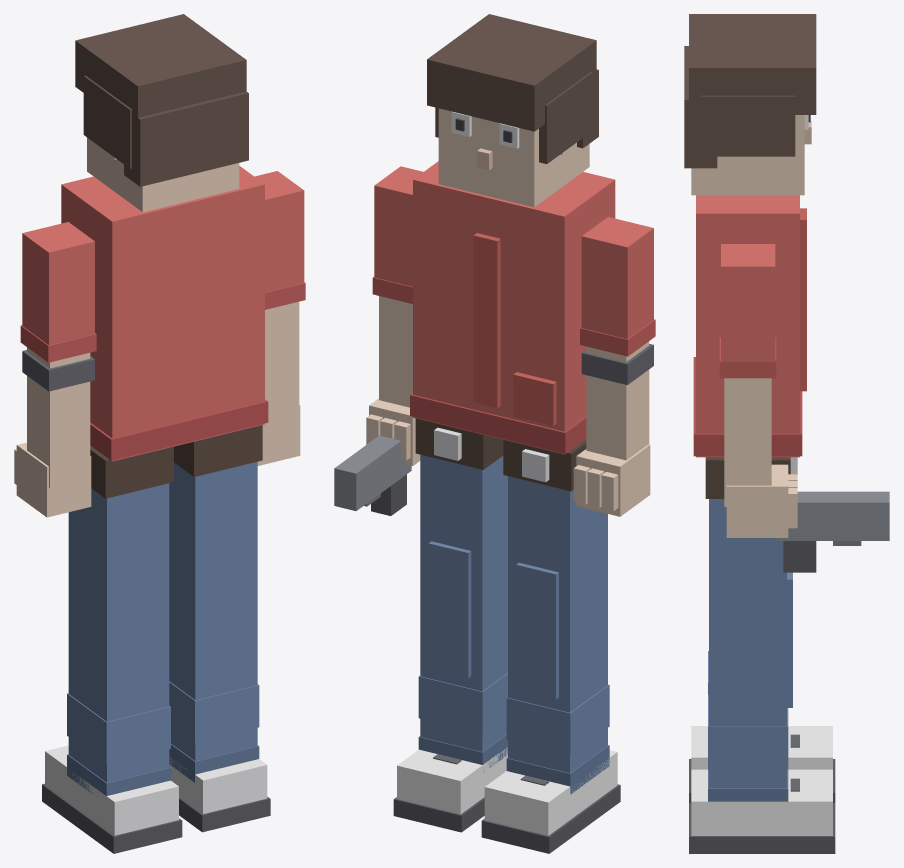
File: ped.glb
3 renders of one model, left to right at view 1: azimuth 30°, elevation 25°; view 2: azimuth 150°, elevation 25°; view 3: azimuth 270°, elevation 25°, orthographic. The views are drawn at different scales.
Parts seen in each view (by area): view 1: Pants (×2), Shirt (×3), Hair, Skin (×3), Shoes (×2); view 2: Pants (×2), Shirt (×3), Skin (×3), Hair, Shoes (×2), Gun; view 3: Shirt (×2), Pants, Hair, Skin (×2), Shoes (×2), Gun.
Boxes of the visible parts, <box> form: Pants (×2): <box>67,425,262,795</box>; Shirt (×3): <box>20,166,305,461</box>; Hair: <box>75,14,248,186</box>; Skin (×3): <box>14,137,300,517</box>; Shoes (×2): <box>42,745,270,853</box>; Pants (×2): <box>415,418,609,794</box>; Shirt (×3): <box>372,161,655,454</box>; Skin (×3): <box>366,108,653,516</box>; Hair: <box>427,14,598,163</box>; Shoes (×2): <box>393,747,620,853</box>; Gun: <box>334,435,411,515</box>; Shirt (×2): <box>693,195,806,457</box>; Pants: <box>705,457,797,801</box>; Hair: <box>684,14,816,168</box>; Skin (×2): <box>691,115,811,537</box>; Shoes (×2): <box>689,726,835,853</box>; Gun: <box>776,491,889,572</box>.
Size of the model in its own units: 0.64 by 1.81 by 0.435.
